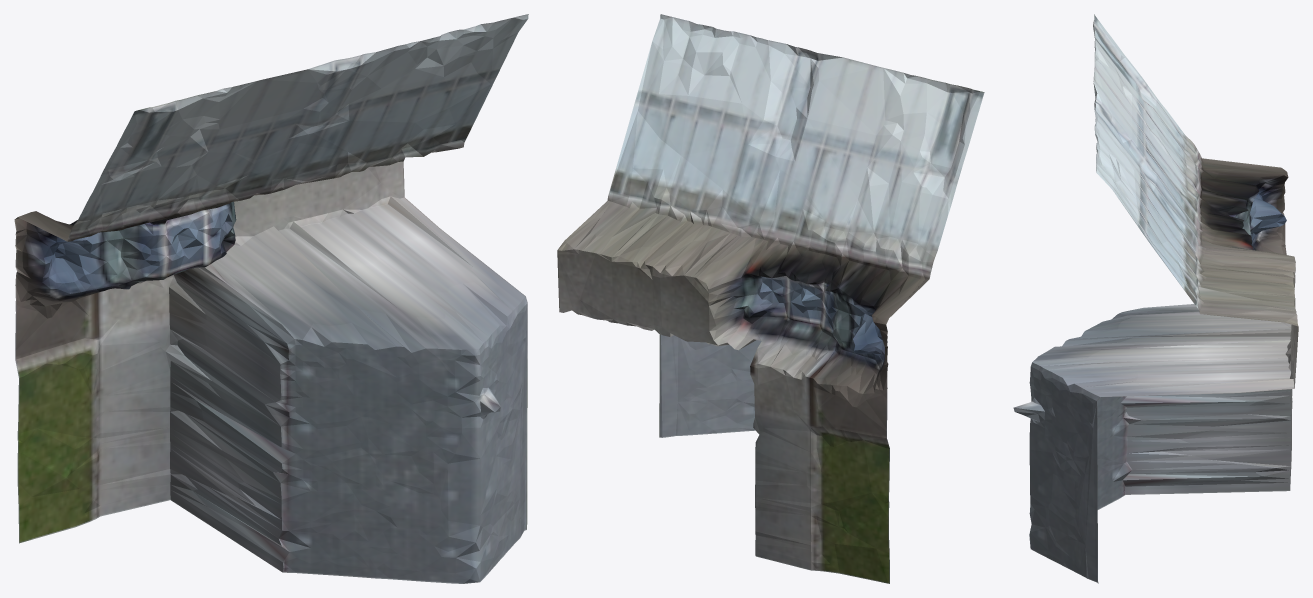
File: map_30_100.obj
The picture shows the model from 3 angles, left to right: view 1: azimuth 30°, elevation 25°; view 2: azimuth 150°, elevation 25°; view 3: azimuth 270°, elevation 25°; orthographic projection. The views are drawn at different scales.
Visible parts, largest first — view 1: grp1; view 2: grp1; view 3: grp1.
Boxes of the visible parts, left/top/right/bottom form: grp1: left=14, top=14, right=528, bottom=583; grp1: left=557, top=14, right=984, bottom=583; grp1: left=1013, top=14, right=1298, bottom=583.
Bounding box in the file's own units: 8 × 10 × 6.23.
Materials: 1 (1 with a texture image).
